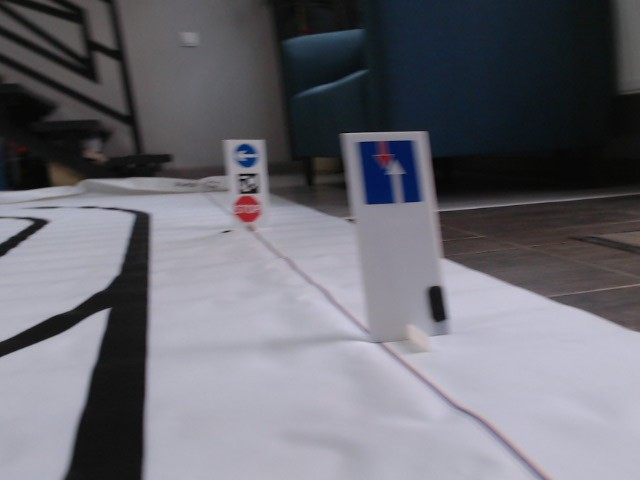Stop: (233, 196, 262, 223)
priority_movement: (355, 140, 425, 205)
